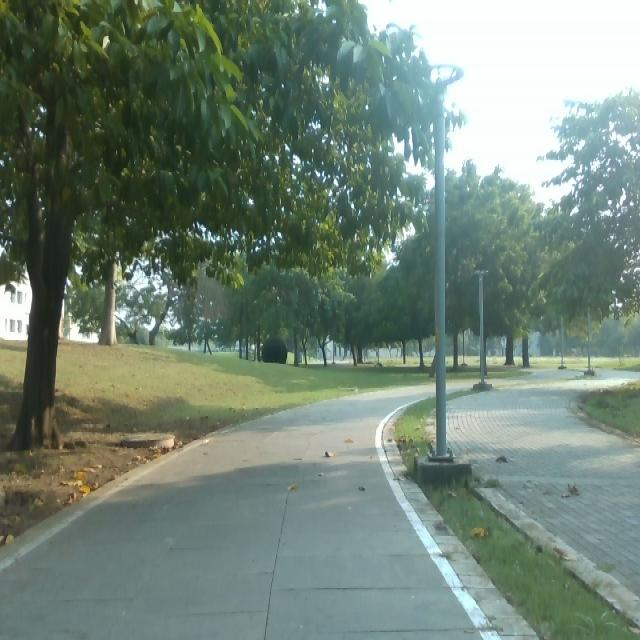lane: (1, 382, 487, 640)
